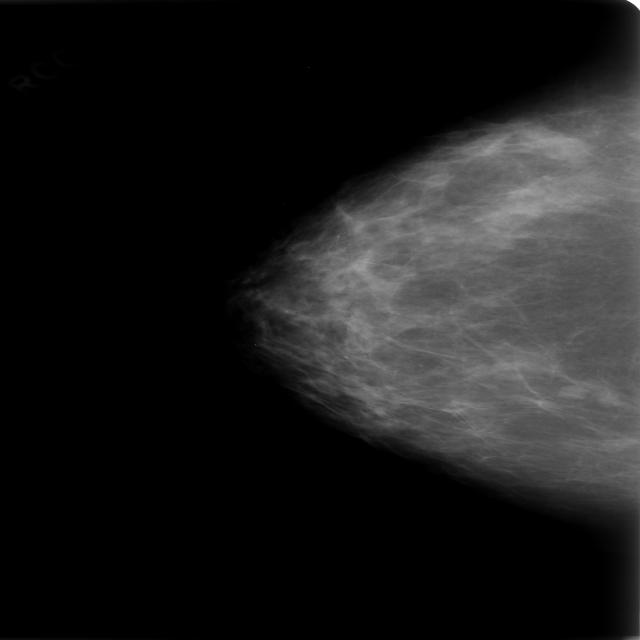normal: (249, 107, 640, 498)
